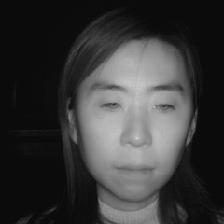normal: (64, 24, 201, 199)
